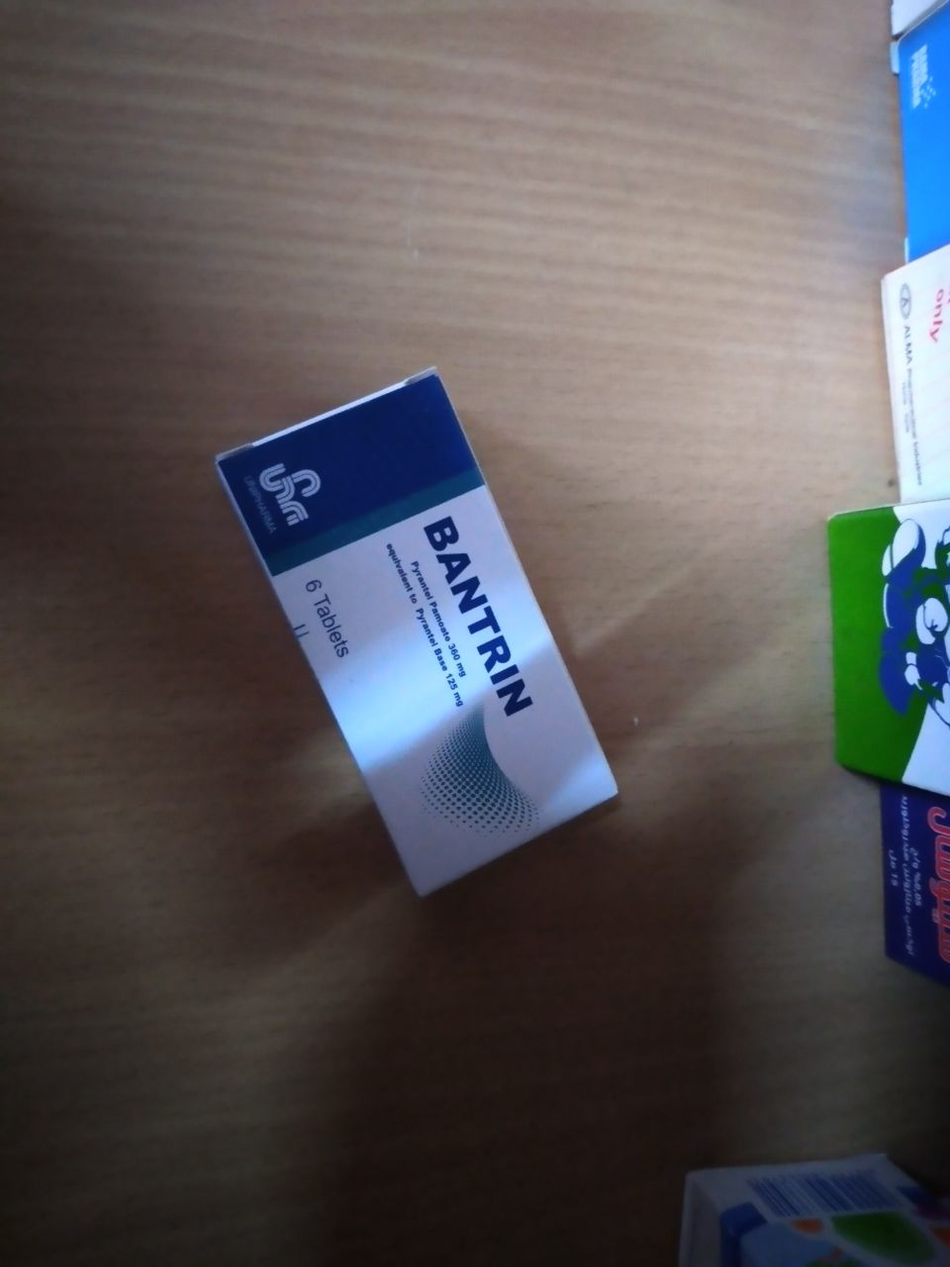Medicine: (214, 363, 633, 917)
